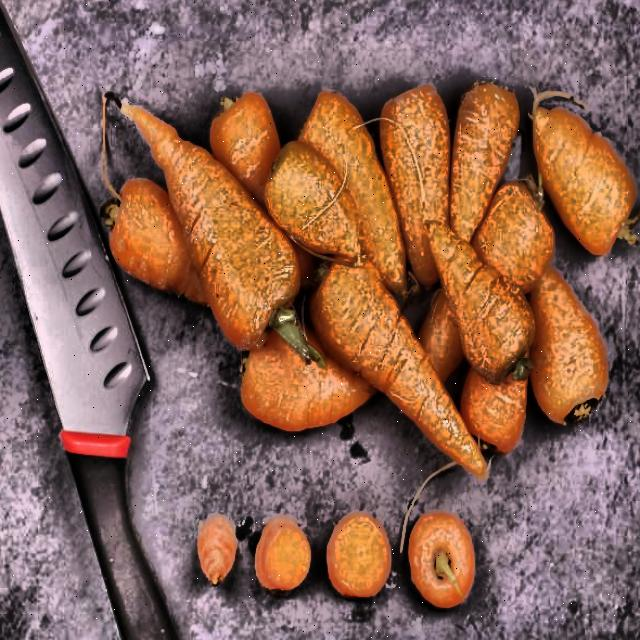knife: (0, 0, 200, 640)
